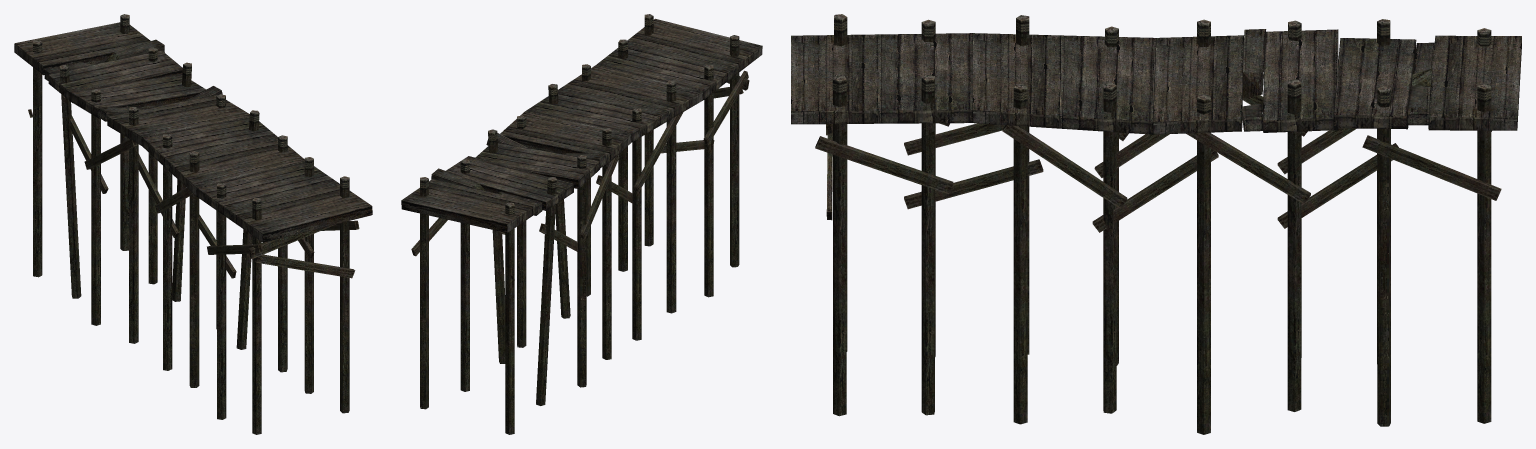
The model's file is b_old_dock_obj_03.fbx.
The picture shows the model from 3 angles, left to right: view 1: azimuth 30°, elevation 25°; view 2: azimuth 150°, elevation 25°; view 3: azimuth 270°, elevation 25°; orthographic projection. The views are drawn at different scales.
Parts seen in each view (by area): view 1: objB_general_obj_03; view 2: objB_general_obj_03; view 3: objB_general_obj_03.
Boxes of the visible parts, bbox=[...] form: objB_general_obj_03: bbox=[14, 14, 372, 434]; objB_general_obj_03: bbox=[401, 14, 762, 434]; objB_general_obj_03: bbox=[791, 14, 1521, 434].
Size of the model in its own units: 5.54 by 10.65 by 20.08.
